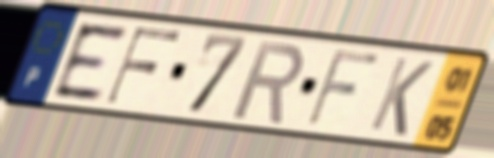7: (185, 30, 252, 118)
E: (49, 20, 132, 103)
F: (301, 46, 384, 130), (102, 24, 185, 107)
K: (365, 53, 437, 140)
R: (228, 37, 309, 126)
